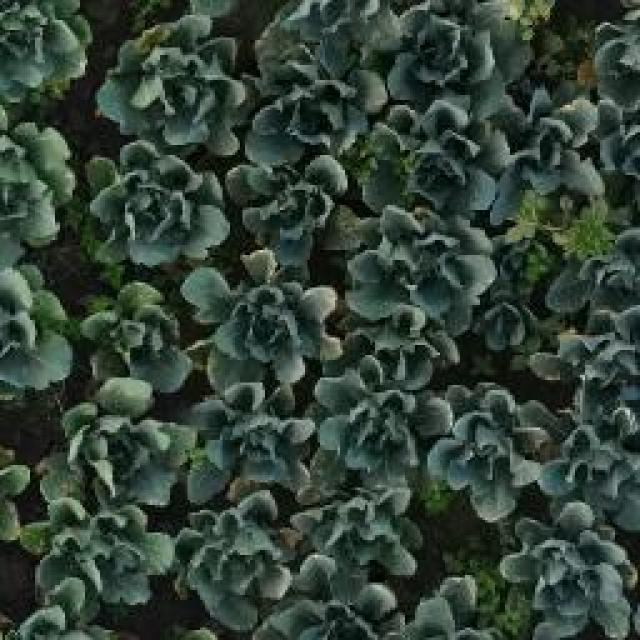cabbage: (104, 17, 242, 152), (347, 208, 496, 332), (505, 507, 640, 640), (185, 262, 332, 384), (89, 142, 230, 264), (359, 96, 502, 216), (242, 44, 386, 162), (430, 388, 558, 518), (59, 382, 188, 508), (26, 504, 169, 614), (172, 490, 290, 620), (325, 346, 446, 463), (384, 0, 516, 102), (72, 282, 182, 400), (500, 86, 606, 206), (540, 414, 640, 528), (0, 236, 71, 393), (283, 553, 399, 640), (244, 166, 347, 260), (0, 123, 77, 246), (0, 0, 89, 100), (315, 467, 408, 559), (210, 398, 301, 480), (469, 286, 545, 370)
